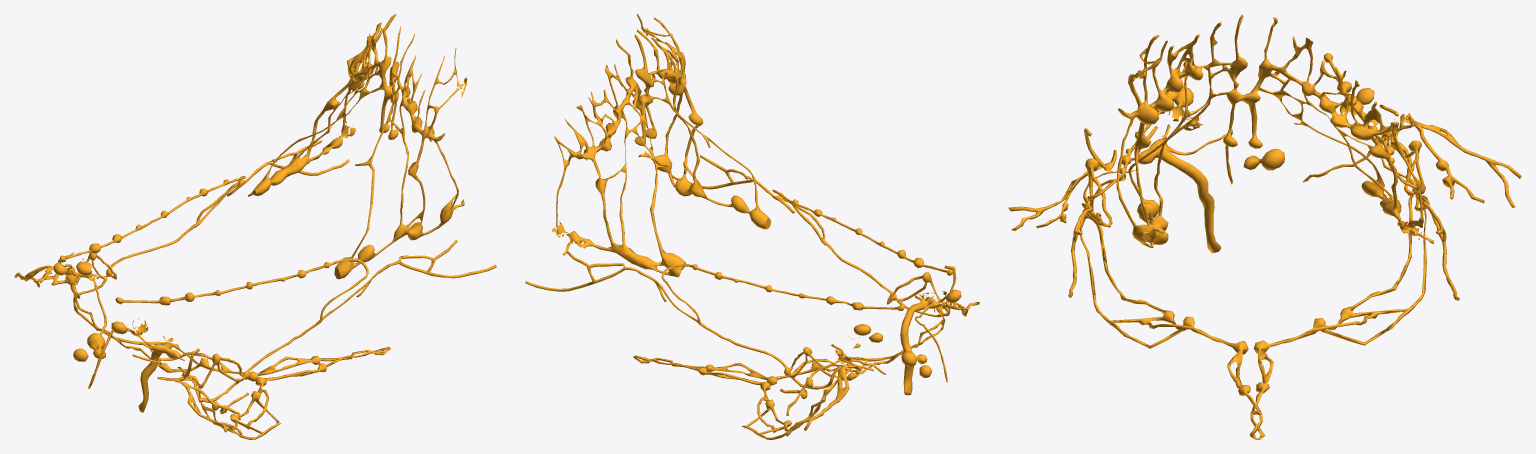
The model's file is NERVOUS.fbx.
3 renders of one model, left to right at view 1: azimuth 30°, elevation 25°; view 2: azimuth 150°, elevation 25°; view 3: azimuth 270°, elevation 25°, orthographic. The views are drawn at different scales.
Parts seen in each view (by area): view 1: NERVOUS; view 2: NERVOUS; view 3: NERVOUS.
Part boxes in pixels (x1,y1,x2,y2): NERVOUS: [14, 14, 496, 439]; NERVOUS: [525, 14, 979, 439]; NERVOUS: [1008, 14, 1521, 439].
Bounding box in the file's own units: 13.62 × 12.49 × 13.28.
